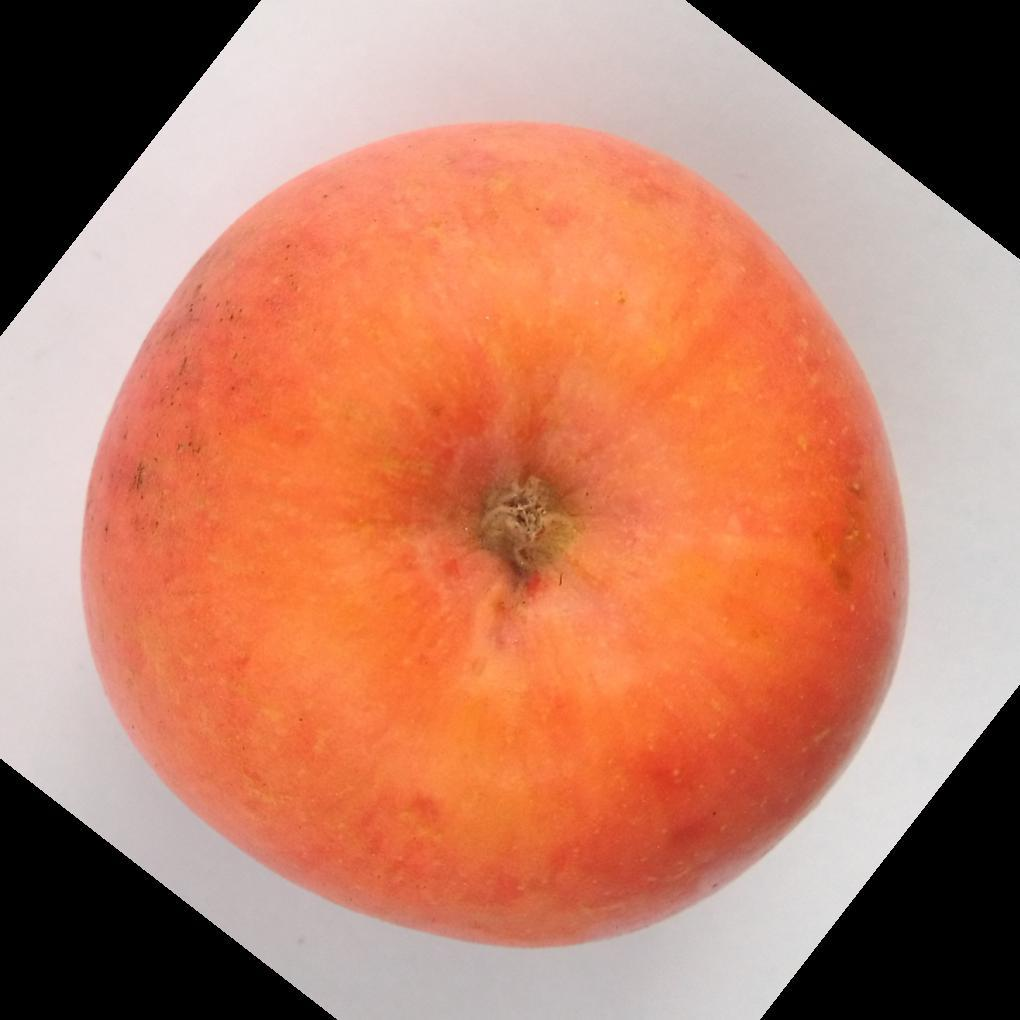FreshGuava: (75, 122, 910, 953)
